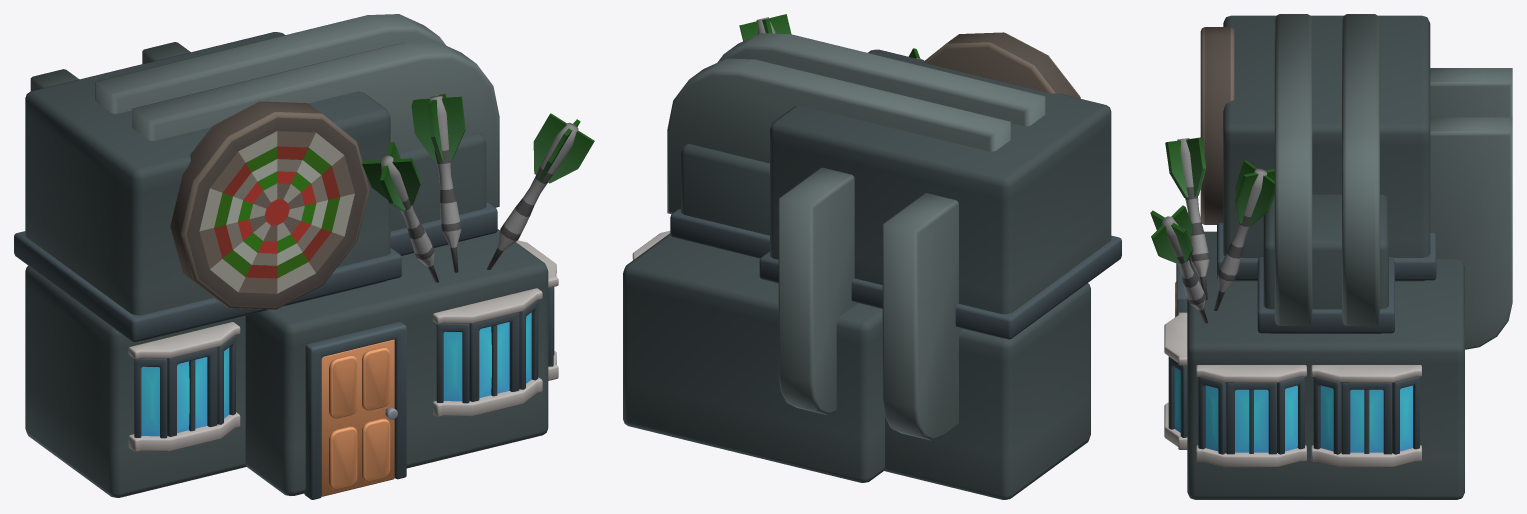
File: mct_build_full_darts.fbx
3 views of the same model, side by side, from view 1: azimuth 30°, elevation 25°; view 2: azimuth 150°, elevation 25°; view 3: azimuth 270°, elevation 25° (orthographic). The views are drawn at different scales.
Parts seen in each view (by area): view 1: mct_build_full_darts, mct_build_full_darts_door; view 2: mct_build_full_darts; view 3: mct_build_full_darts.
Part boxes in pixels (<box>): mct_build_full_darts: <box>14,14,594,499</box>; mct_build_full_darts_door: <box>321,339,397,496</box>; mct_build_full_darts: <box>623,14,1121,499</box>; mct_build_full_darts: <box>1150,14,1512,499</box>.
Bounding box in the file's own units: 649 × 554 × 522.
